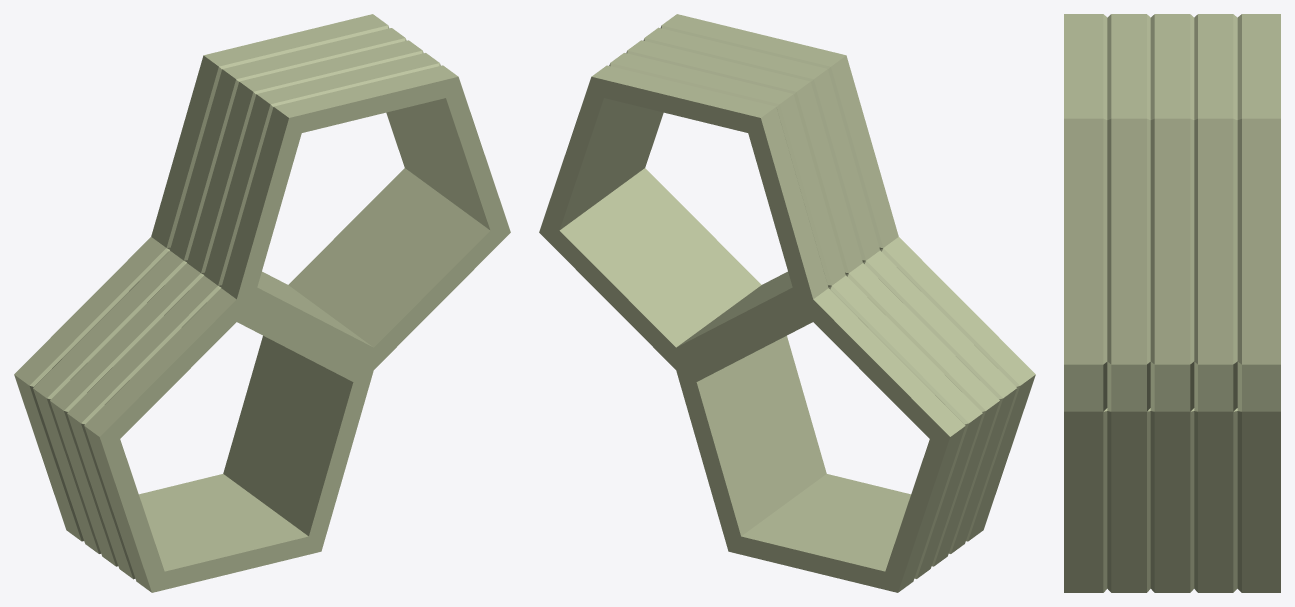
The model's file is Shelf_3.fbx.
The picture shows the model from 3 angles, left to right: view 1: azimuth 30°, elevation 25°; view 2: azimuth 150°, elevation 25°; view 3: azimuth 270°, elevation 25°; orthographic projection. The views are drawn at different scales.
Parts seen in each view (by area): view 1: Shelf_3; view 2: Shelf_3; view 3: Shelf_3.
Part boxes in pixels (box(x1,y1,x2,y2)): Shelf_3: box(14, 14, 510, 592); Shelf_3: box(539, 14, 1035, 592); Shelf_3: box(1064, 14, 1280, 592).
Size of the model in its own units: 175 by 63.17 by 180.
